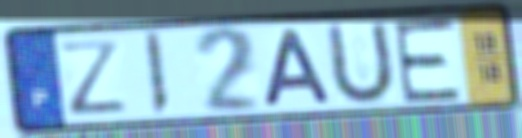2: (192, 24, 267, 118)
A: (261, 26, 337, 109)
E: (390, 15, 464, 106)
I: (141, 29, 172, 119)
U: (325, 17, 398, 109)
Z: (56, 37, 130, 117)
